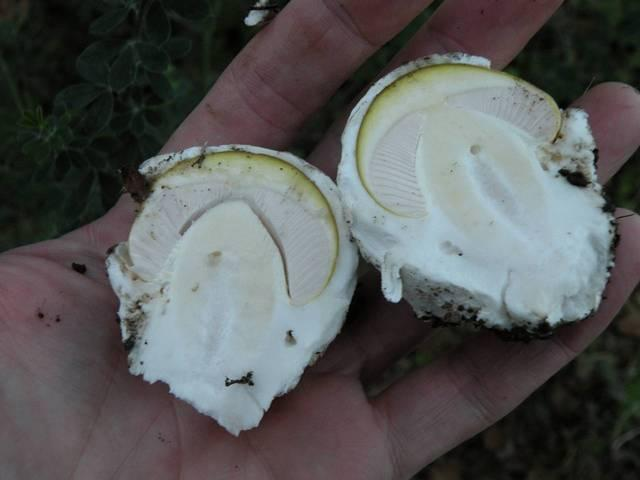Edible Mushroom: (335, 50, 618, 340), (103, 141, 360, 436)
